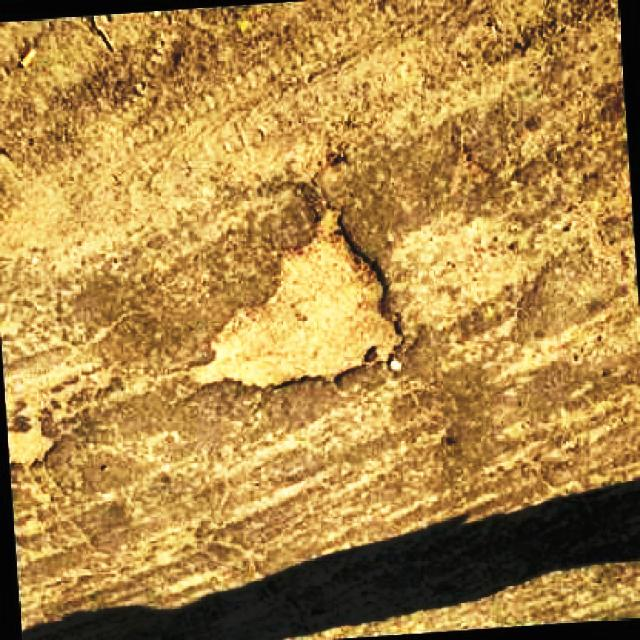pothole: (180, 205, 412, 402), (1, 355, 117, 471)
